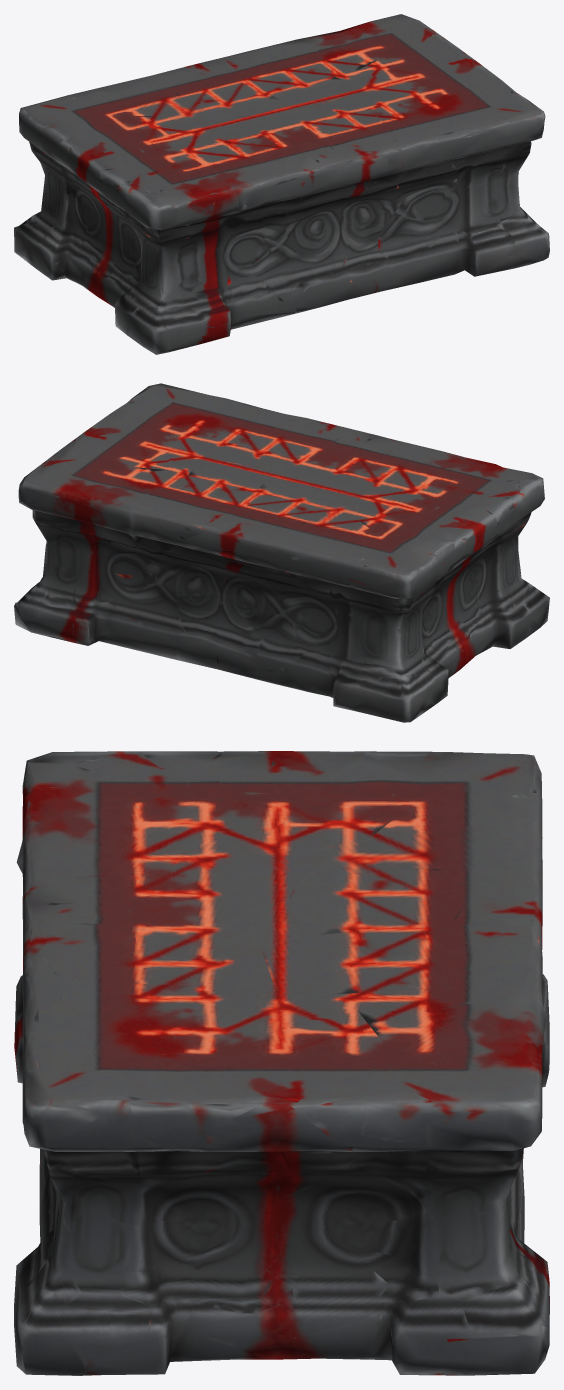
File: altar_runic.glb
3 renders of one model, top to bottom at view 1: azimuth 30°, elevation 25°; view 2: azimuth 150°, elevation 25°; view 3: azimuth 270°, elevation 25°, orthographic. The views are drawn at different scales.
Size of the model in its own units: 2 by 0.7118 by 1.26.
Materials: 1 (1 with a texture image).
